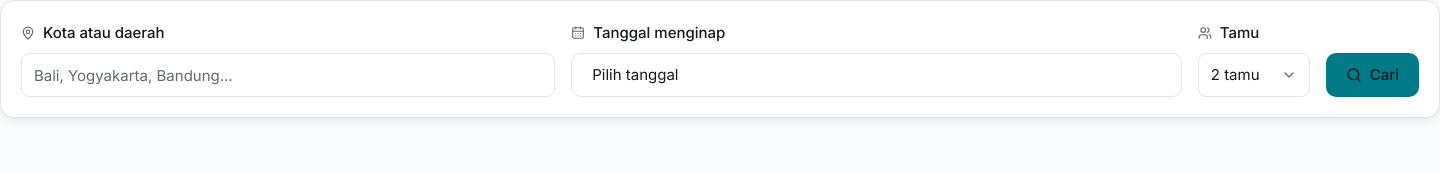
Test: kriteria yang tidak lengkap ditolak sebelum dikirim › tanpa kota
What coordinates should you click on to do the following:
click the button "Cari"
I would click on:
 (1372, 75)
Its box is [1326, 53, 1419, 97].
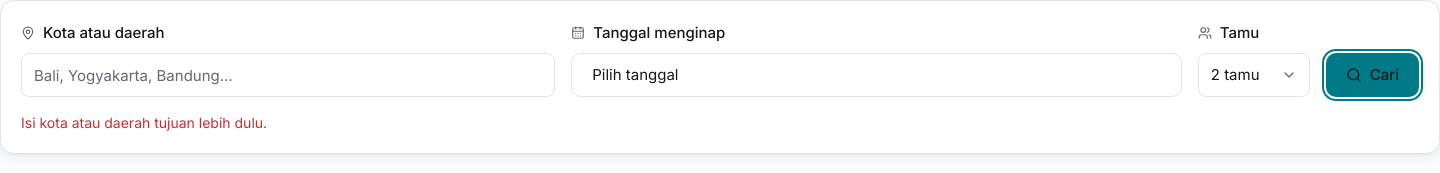
Now the message shows "kota atau daerah tujuan", box [21, 114, 267, 131]
